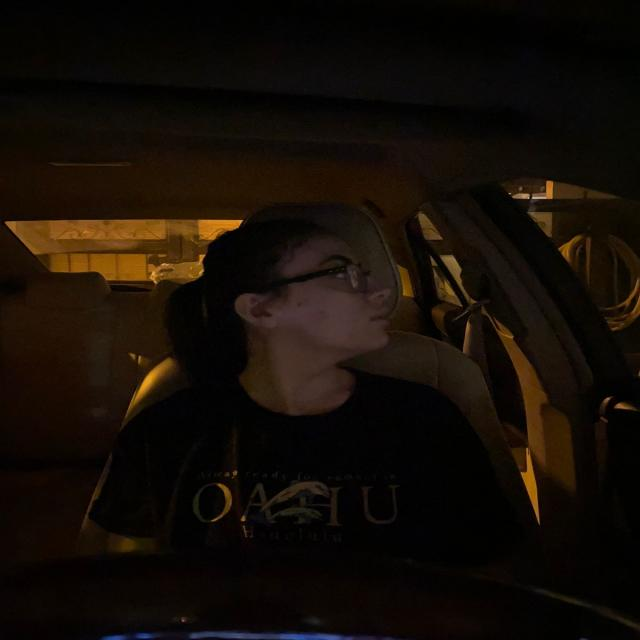LeftRight: (202, 212, 420, 408)
